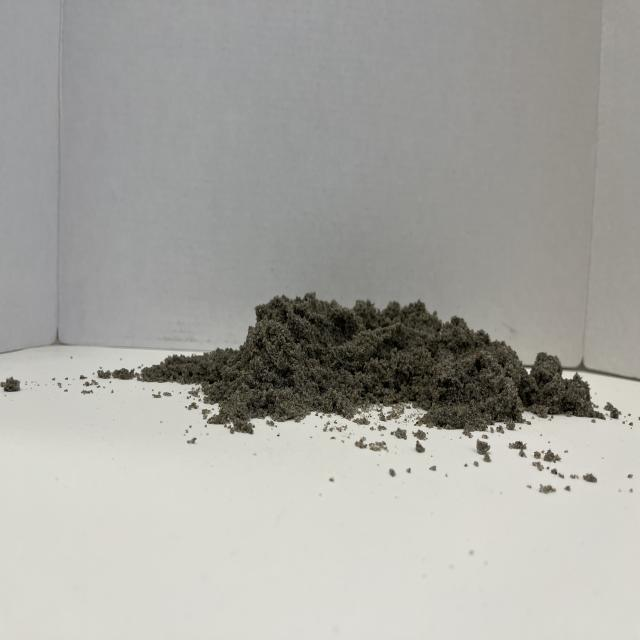sand: (133, 278, 579, 434)
